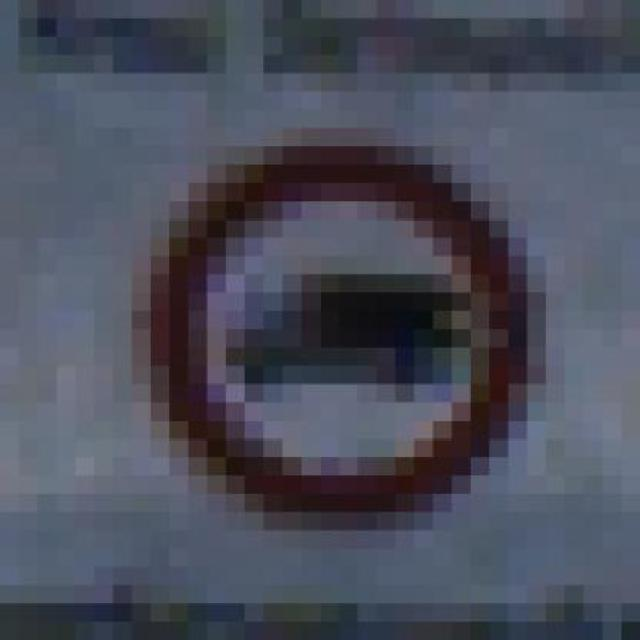Truck traffic is prohibited: (113, 109, 602, 531)
